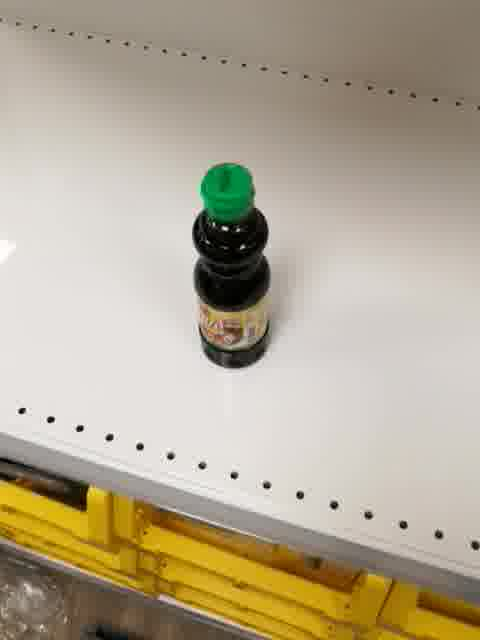cookingoil: (190, 159, 274, 371)
